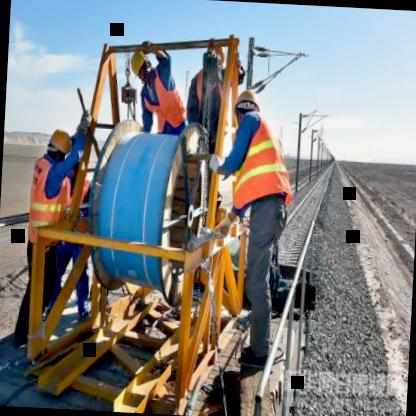helmet: (200, 34, 230, 80), (228, 86, 262, 125), (42, 127, 73, 168), (123, 42, 152, 83)
